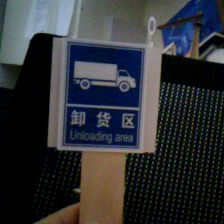unload: (50, 37, 153, 154)
